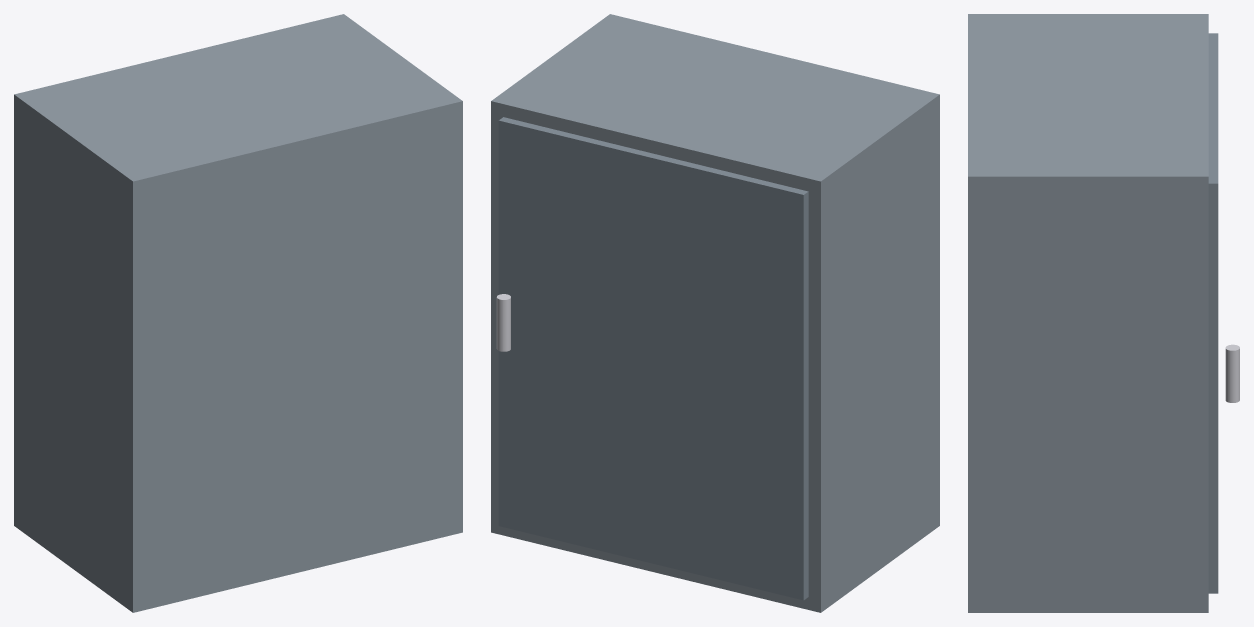
The model's file is Тумба.fbx.
3 renders of one model, left to right at view 1: azimuth 30°, elevation 25°; view 2: azimuth 150°, elevation 25°; view 3: azimuth 270°, elevation 25°, orthographic.
Visible parts, largest first — view 1: Back, Side_L, Top, Side_R, Bottom; view 2: Door, Side_L, Top, Bottom, Back, Side_R, Handle; view 3: Side_R, Top, Back, Door, Bottom, Handle.
Boxes of the visible parts, box(x1,y1,x2,y2) form: Back: box(126, 114, 462, 612); Side_L: box(14, 95, 144, 612); Top: box(14, 14, 462, 194); Side_R: box(450, 114, 462, 534); Bottom: box(14, 513, 132, 612); Door: box(498, 117, 808, 600); Side_L: box(808, 94, 938, 599); Top: box(491, 14, 939, 193); Bottom: box(491, 518, 933, 612); Back: box(932, 96, 939, 530); Side_R: box(491, 101, 503, 521); Handle: box(496, 294, 510, 351); Side_R: box(968, 170, 1208, 610); Top: box(968, 14, 1208, 189); Back: box(968, 161, 982, 612); Door: box(1208, 33, 1218, 593); Bottom: box(968, 600, 1208, 612); Handle: box(1225, 344, 1239, 402).
Bounding box in the file's own units: 0.8 × 1 × 0.565.
